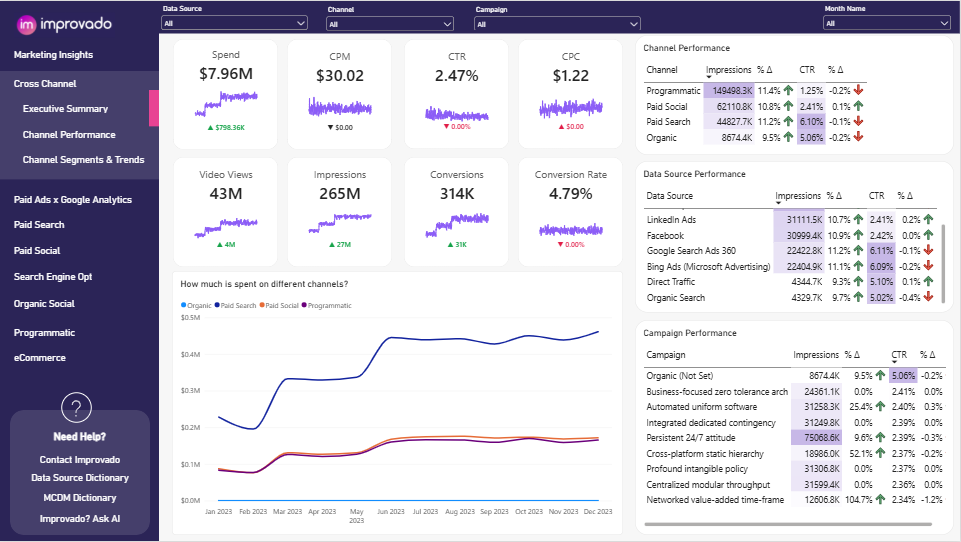

This screenshot's page, from the dashboard's own definition file:
{"tool":"powerbi","page":{"name":"Page 1","canvas":[1920,1080],"ordinal":0},"visuals":[{"type":"shape","box":[308.3,0,1611.7,65],"z":0},{"type":"slicer","fields":{"Values":["marketing_data.Data Source"]},"box":[318.8,6.2,302,52],"z":1000},{"type":"cardVisual","fields":{"Data":["Sum(marketing_data.Spend)"]},"box":[345.6,76.7,210,221.1],"z":2000},{"type":"cardVisual","fields":{"Data":["Table.CPM"]},"box":[574.4,76.7,210,221.1],"z":3000},{"type":"cardVisual","fields":{"Data":["Table.CTR"]},"box":[807.8,76.7,210,220],"z":4000},{"type":"cardVisual","fields":{"Data":["Table.CPC"]},"box":[1035.6,76.7,210,220],"z":5000},{"type":"cardVisual","fields":{"Data":["Sum(marketing_data.Video Views)"]},"box":[346,312,210,220],"z":6000},{"type":"cardVisual","fields":{"Data":["Sum(marketing_data.Impressions)"]},"box":[574.4,312.2,210,220],"z":7000},{"type":"cardVisual","fields":{"Data":["Sum(marketing_data.Conversions)"]},"box":[807.8,312.2,210,220],"z":8000},{"type":"cardVisual","fields":{"Data":["Table.Conversion Rate"]},"box":[1035.6,312.2,210,220],"z":9000},{"type":"shape","box":[0,0,318.3,1080],"z":10000},{"type":"actionButton","title":"Marketing Insights","box":[28.3,96.7,208.3,26.7],"z":11000},{"type":"actionButton","title":"Cross Channel","box":[28.3,153.3,158.3,20],"z":12000},{"type":"actionButton","title":"Executive Summary","box":[46.7,203.3,191.7,20],"z":13000},{"type":"actionButton","title":"Channel Performance","box":[46.7,255,211.7,23.3],"z":14000},{"type":"actionButton","title":"Channel Segments & Trends","box":[46.7,305,251.7,31.7],"z":15000},{"type":"actionButton","title":"Paid Ads x Google Analytics","box":[28.3,385,251.7,26.7],"z":16000},{"type":"actionButton","title":"Paid Search","box":[28.3,436.7,251.7,26.7],"z":17000},{"type":"actionButton","title":"Paid Social ","box":[28.3,488.3,251.7,26.7],"z":18000},{"type":"actionButton","title":"Search Engine Opt","box":[28.6,540,251.7,26.7],"z":19000},{"type":"actionButton","title":"Organic Social","box":[28.3,595,251.7,26.7],"z":20000},{"type":"actionButton","title":"Programmatic","box":[28.3,651.7,251.7,26.7],"z":21000},{"type":"actionButton","title":"eCommerce","box":[28.3,701.7,251.7,26.7],"z":22000},{"type":"shape","box":[20,818.3,280,250],"z":23000},{"type":"actionButton","box":[92.9,768.6,121.7,90],"z":24000},{"type":"actionButton","title":"Need Help?","box":[34.3,858.6,251.7,26.7],"z":25000},{"type":"actionButton","title":"Contact Improvado","box":[34.3,905.7,251.7,26.7],"z":26000},{"type":"actionButton","title":"Data Source Dictionary","box":[34.3,942.9,251.7,26.7],"z":27000},{"type":"actionButton","title":"MCDM Dictionary","box":[34.3,981.4,251.4,27.1],"z":28000},{"type":"actionButton","title":"Improvado? Ask AI","box":[34.3,1024.3,251.7,26.7],"z":29000},{"type":"shape","box":[0,140.4,317.9,216.8],"z":30000},{"type":"shape","box":[298.2,177.3,20,72.7],"z":31000},{"type":"tableEx","title":"Channel Performance","fields":{"Values":["marketing_data.Channel","Sum(marketing_data.Impressions)","Table.Impressions % Var","Table.CTR","Table.CTR % Var"]},"box":[1270,67.5,638,240],"z":32000},{"type":"tableEx","title":"Data Source Performance","fields":{"Values":["marketing_data.Data Source","Sum(marketing_data.Impressions)","Table.Impressions % Var","Table.CTR","Table.CTR % Var"]},"box":[1270,320,637.5,302.5],"z":33000},{"type":"tableEx","title":"Campaign Performance","fields":{"Values":["marketing_data.Campaign","Sum(marketing_data.Impressions)","Table.Impressions % Var","Table.CTR","Table.CTR % Var"]},"box":[1270,637.5,637.5,430],"z":34000},{"type":"lineChart","title":"How much is spent on different channels?","fields":{"Category":["DateTable.Month Name"],"Series":["marketing_data.Channel"],"Y":["Sum(marketing_data.Spend)"]},"box":[343.3,540,901.7,528.3],"z":35000},{"type":"slicer","fields":{"Values":["marketing_data.Channel"]},"box":[647.5,7.5,265,51.2],"z":36000},{"type":"slicer","fields":{"Values":["marketing_data.Campaign"]},"box":[943.6,8.2,342,50],"z":37000},{"type":"slicer","fields":{"Values":["DateTable.Date"]},"box":[1641.8,6.4,265,51.2],"z":38000},{"type":"lineChart","fields":{"Category":["DateTable.Date.Variation.Date Hierarchy.Year","DateTable.Date.Variation.Date Hierarchy.Quarter","DateTable.Date.Variation.Date Hierarchy.Month","DateTable.Date.Variation.Date Hierarchy.Day"],"Y":["Sum(marketing_data.Spend)"]},"box":[363.3,155.6,176,94],"z":39000},{"type":"lineChart","fields":{"Category":["DateTable.Date"],"Y":["Table.CPM"]},"box":[592.2,165.6,176,94],"z":40000},{"type":"lineChart","fields":{"Category":["DateTable.Date"],"Y":["Table.CTR"]},"box":[825.6,165.6,176,94],"z":41000},{"type":"lineChart","fields":{"Category":["DateTable.Date"],"Y":["Table.CPC"]},"box":[1053.3,165.6,176,94],"z":42000},{"type":"lineChart","fields":{"Category":["DateTable.Date"],"Y":["Sum(marketing_data.Video Views)"]},"box":[363.3,398.9,176,94],"z":43000},{"type":"lineChart","fields":{"Category":["DateTable.Date"],"Y":["Sum(marketing_data.Impressions)"]},"box":[592.2,398.9,176,94],"z":44000},{"type":"lineChart","fields":{"Category":["DateTable.Date"],"Y":["Sum(marketing_data.Conversions)"]},"box":[825.6,397.8,176,94],"z":45000},{"type":"lineChart","fields":{"Category":["DateTable.Date"],"Y":["Table.Conversion Rate"]},"box":[1053.3,402.2,176,94],"z":46000},{"type":"image","box":[28.3,20,201.7,56.7],"z":47000}]}

Visuals, with their boxes in screenshot pixels (x1, y1, x2, y2), scaled from the page's 1920x1080 canvas onto the 961x542 screenshot:
shape: left=154, top=0, right=960, bottom=33
slicer - marketing_data.Data Source: left=160, top=3, right=311, bottom=29
cardVisual - Sum(marketing_data.Spend): left=173, top=38, right=278, bottom=149
cardVisual - Table.CPM: left=287, top=38, right=393, bottom=149
cardVisual - Table.CTR: left=404, top=38, right=509, bottom=149
cardVisual - Table.CPC: left=518, top=38, right=623, bottom=149
cardVisual - Sum(marketing_data.Video Views): left=173, top=157, right=278, bottom=267
cardVisual - Sum(marketing_data.Impressions): left=287, top=157, right=393, bottom=267
cardVisual - Sum(marketing_data.Conversions): left=404, top=157, right=509, bottom=267
cardVisual - Table.Conversion Rate: left=518, top=157, right=623, bottom=267
shape: left=0, top=0, right=159, bottom=541
"Marketing Insights" actionButton: left=14, top=49, right=118, bottom=62
"Cross Channel" actionButton: left=14, top=77, right=93, bottom=87
"Executive Summary" actionButton: left=23, top=102, right=119, bottom=112
"Channel Performance" actionButton: left=23, top=128, right=129, bottom=140
"Channel Segments & Trends" actionButton: left=23, top=153, right=149, bottom=169
"Paid Ads x Google Analytics" actionButton: left=14, top=193, right=140, bottom=207
"Paid Search" actionButton: left=14, top=219, right=140, bottom=233
"Paid Social " actionButton: left=14, top=245, right=140, bottom=258
"Search Engine Opt" actionButton: left=14, top=271, right=140, bottom=284
"Organic Social" actionButton: left=14, top=299, right=140, bottom=312
"Programmatic" actionButton: left=14, top=327, right=140, bottom=340
"eCommerce" actionButton: left=14, top=352, right=140, bottom=366
shape: left=10, top=411, right=150, bottom=536
actionButton: left=46, top=386, right=107, bottom=431
"Need Help?" actionButton: left=17, top=431, right=143, bottom=444
"Contact Improvado" actionButton: left=17, top=455, right=143, bottom=468
"Data Source Dictionary" actionButton: left=17, top=473, right=143, bottom=487
"MCDM Dictionary" actionButton: left=17, top=493, right=143, bottom=506
"Improvado? Ask AI" actionButton: left=17, top=514, right=143, bottom=527
shape: left=0, top=70, right=159, bottom=179
shape: left=149, top=89, right=159, bottom=125
"Channel Performance" tableEx: left=636, top=34, right=955, bottom=154
"Data Source Performance" tableEx: left=636, top=161, right=955, bottom=312
"Campaign Performance" tableEx: left=636, top=320, right=955, bottom=536
"How much is spent on different channels?" lineChart: left=172, top=271, right=623, bottom=536
slicer - marketing_data.Channel: left=324, top=4, right=457, bottom=29
slicer - marketing_data.Campaign: left=472, top=4, right=643, bottom=29
slicer - DateTable.Date: left=822, top=3, right=954, bottom=29
lineChart - DateTable.Date.Variation.Date Hierarchy.Year x DateTable.Date.Variation.Date Hierarchy.Quarter: left=182, top=78, right=270, bottom=125
lineChart - DateTable.Date x Table.CPM: left=296, top=83, right=385, bottom=130
lineChart - DateTable.Date x Table.CTR: left=413, top=83, right=501, bottom=130
lineChart - DateTable.Date x Table.CPC: left=527, top=83, right=615, bottom=130
lineChart - DateTable.Date x Sum(marketing_data.Video Views): left=182, top=200, right=270, bottom=247
lineChart - DateTable.Date x Sum(marketing_data.Impressions): left=296, top=200, right=385, bottom=247
lineChart - DateTable.Date x Sum(marketing_data.Conversions): left=413, top=200, right=501, bottom=247
lineChart - DateTable.Date x Table.Conversion Rate: left=527, top=202, right=615, bottom=249
image: left=14, top=10, right=115, bottom=38
